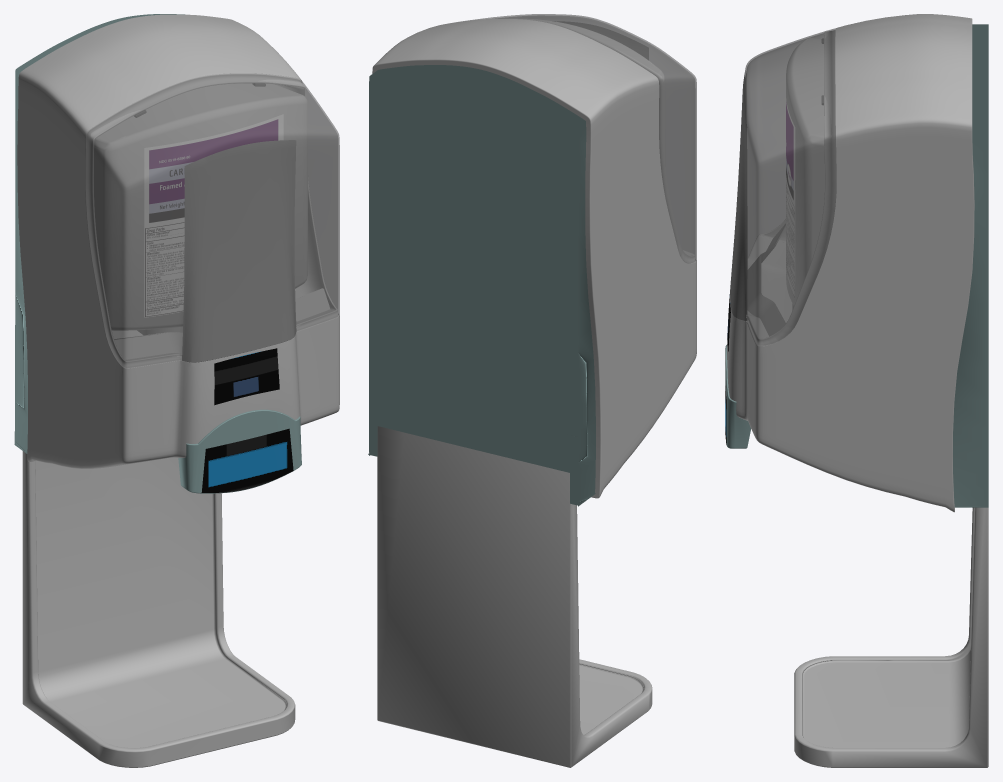
The picture shows the model from 3 angles, left to right: view 1: azimuth 30°, elevation 25°; view 2: azimuth 150°, elevation 25°; view 3: azimuth 270°, elevation 25°; orthographic projection.
Parts seen in each view (by area): view 1: hand_sanitizer; view 2: hand_sanitizer; view 3: hand_sanitizer.
Part boxes in pixels (bbox=[...]): hand_sanitizer: bbox=[14, 14, 339, 767]; hand_sanitizer: bbox=[368, 14, 696, 767]; hand_sanitizer: bbox=[725, 14, 988, 767].
Size of the model in its own units: 5.15 by 15.24 by 5.34.
